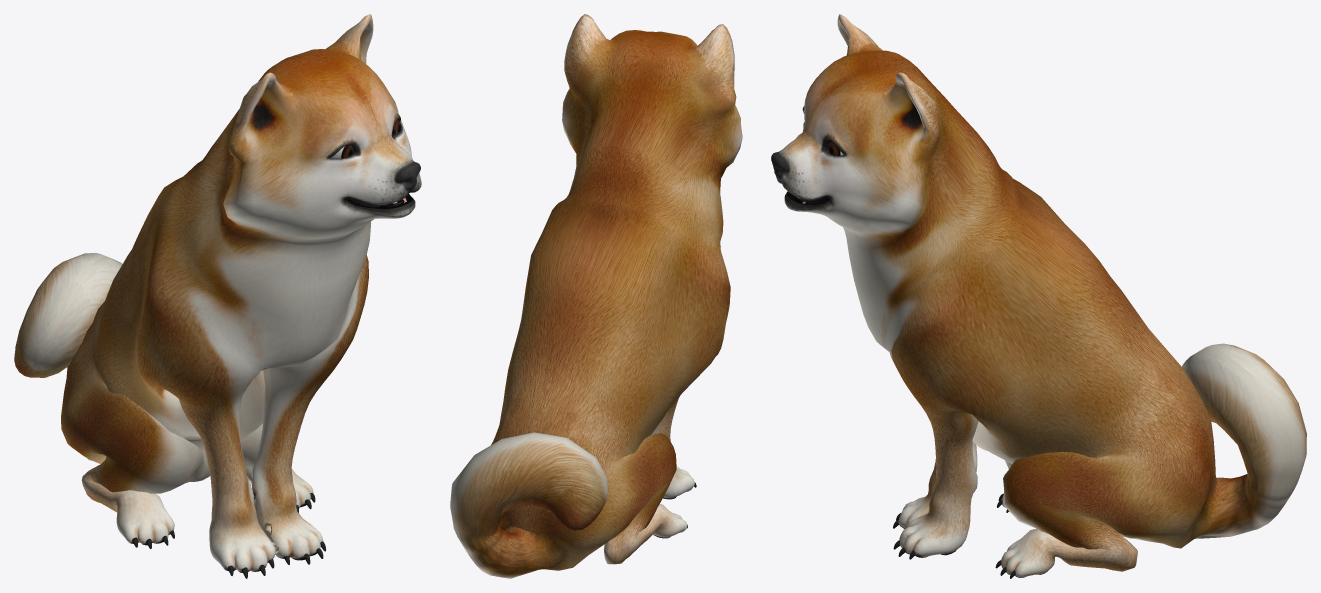
Rendered from shiba-inu.glb.
3 renders of one model, left to right at view 1: azimuth 30°, elevation 25°; view 2: azimuth 150°, elevation 25°; view 3: azimuth 270°, elevation 25°, orthographic. The views are drawn at different scales.
Parts seen in each view (by area): view 1: Shiba; view 2: Shiba; view 3: Shiba.
Part boxes in pixels (x1=…): Shiba: x1=14, y1=14, x2=421, y2=578; Shiba: x1=450, y1=14, x2=742, y2=578; Shiba: x1=771, y1=14, x2=1306, y2=578.
Bounding box in the file's own units: 38.41 × 88.75 × 84.57.
1 material, 1 textured.
